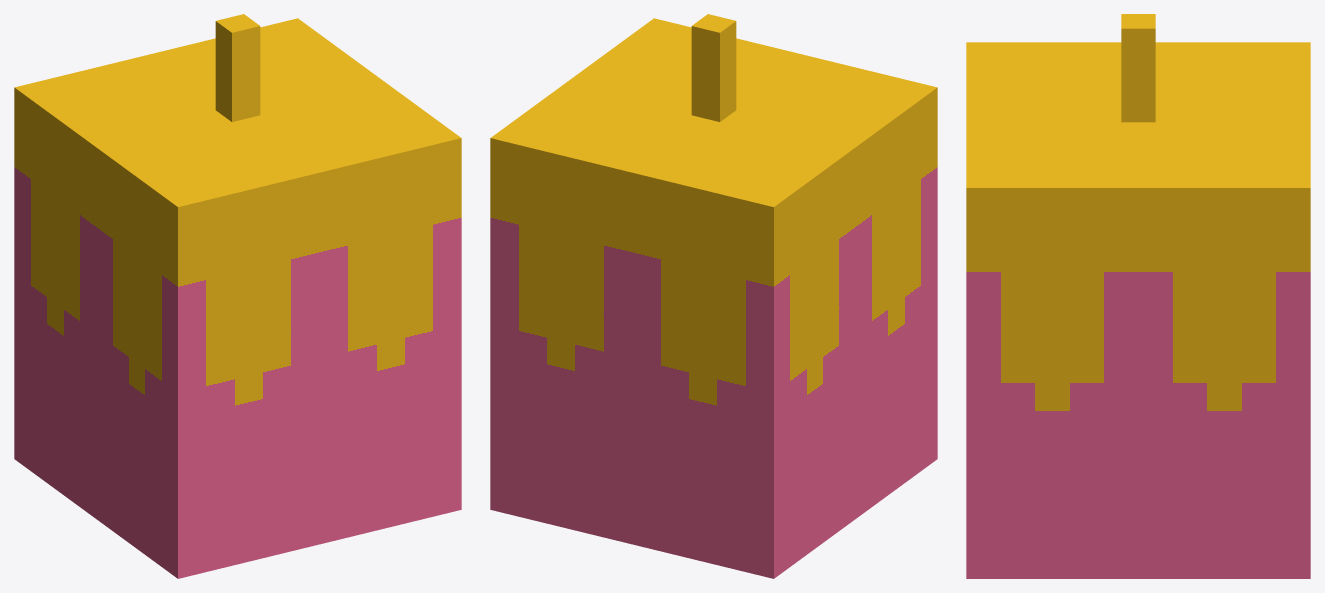
Rendered from qualot.obj.
The picture shows the model from 3 angles, left to right: view 1: azimuth 30°, elevation 25°; view 2: azimuth 150°, elevation 25°; view 3: azimuth 270°, elevation 25°; orthographic projection. The views are drawn at different scales.
Visible parts, largest first — view 1: Cube; view 2: Cube; view 3: Cube.
Boxes of the visible parts, <box> form: Cube: <box>14,14,461,578</box>; Cube: <box>490,14,937,578</box>; Cube: <box>966,14,1310,578</box>.
Size of the model in its own units: 0.3 by 0.4957 by 0.3.
